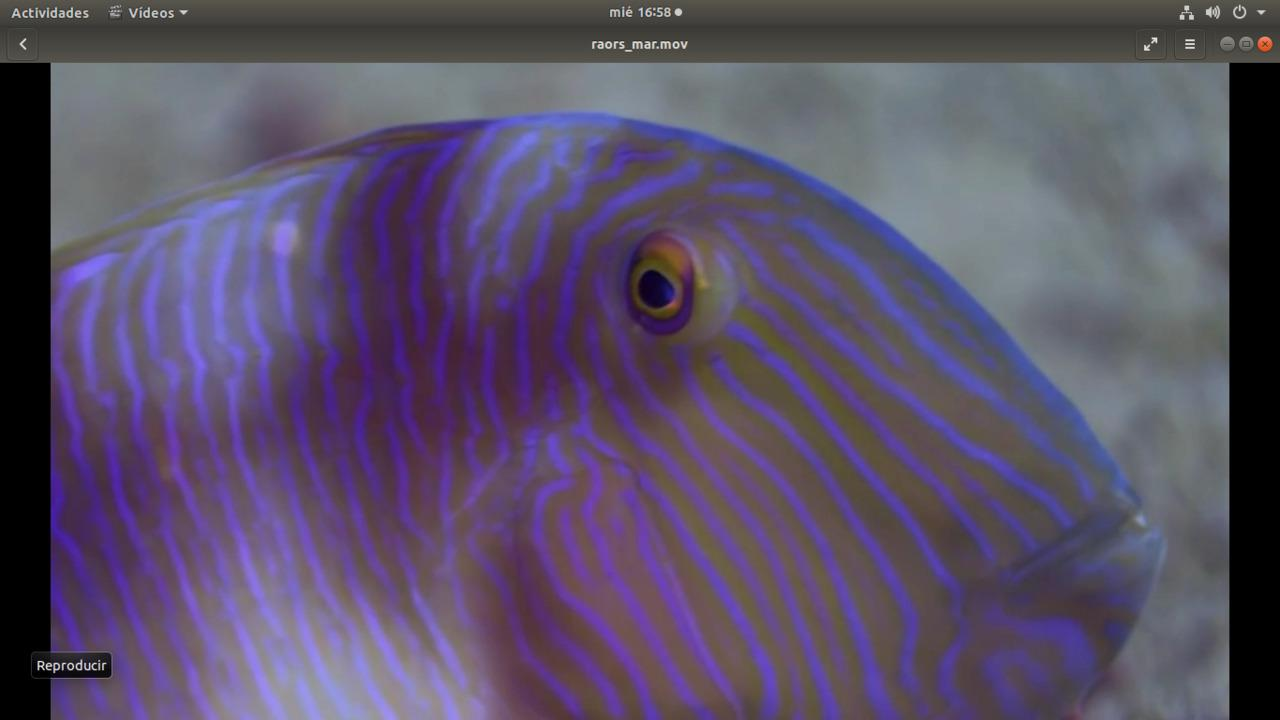raor: (125, 99, 1182, 711)
